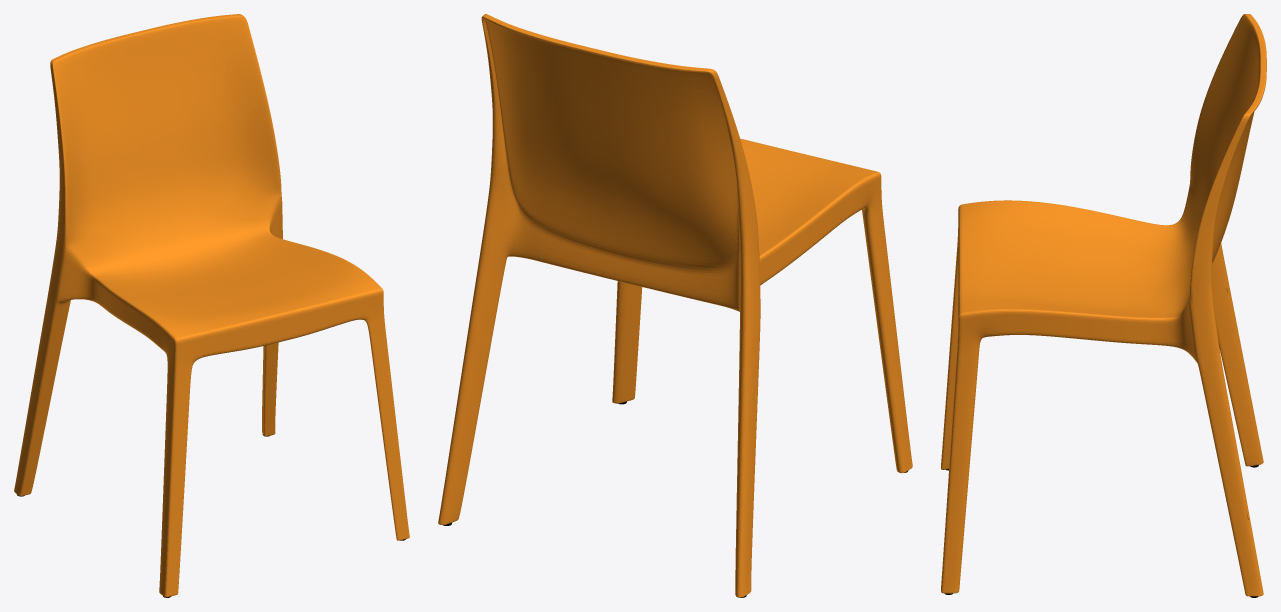
File: 001_Pantrys-del-este.glb
3 views of the same model, side by side, from view 1: azimuth 30°, elevation 25°; view 2: azimuth 150°, elevation 25°; view 3: azimuth 270°, elevation 25° (orthographic). The views are drawn at different scales.
Parts seen in each view (by area): view 1: root; view 2: root; view 3: root.
Part boxes in pixels (bbox=[...]): root: bbox=[14, 14, 409, 597]; root: bbox=[438, 14, 912, 597]; root: bbox=[941, 14, 1266, 597].
Size of the model in its own units: 0.5045 by 0.81 by 0.5119.
